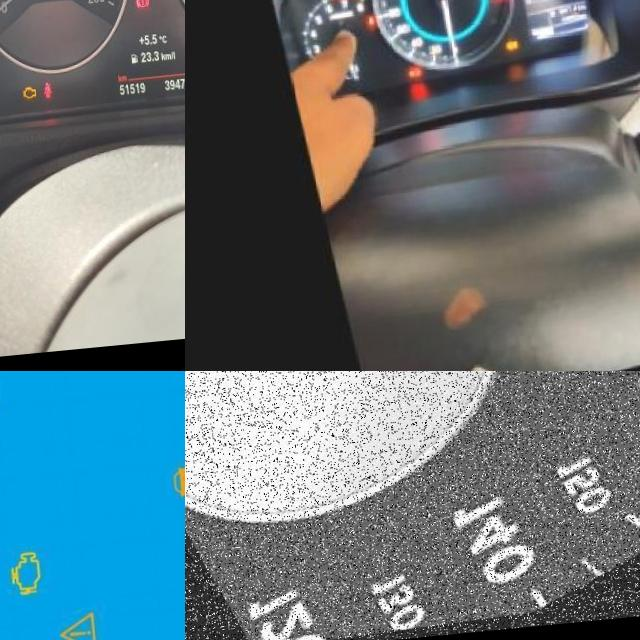Engine cooling system: (485, 0, 495, 5)
